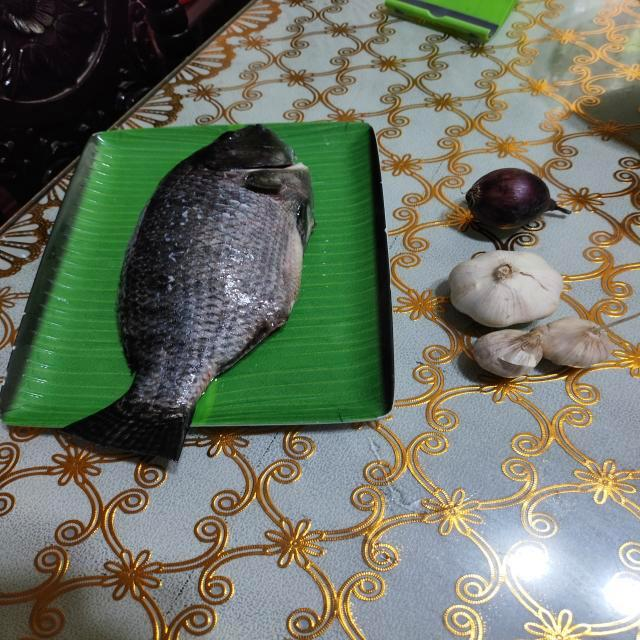fish: (72, 123, 310, 460)
garlic: (448, 251, 616, 379)
onion: (465, 169, 564, 230)
